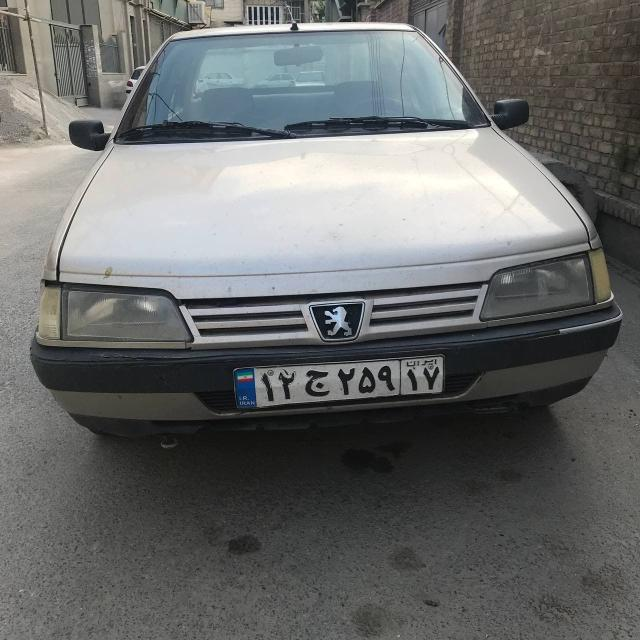Plates: (233, 354, 447, 409)
